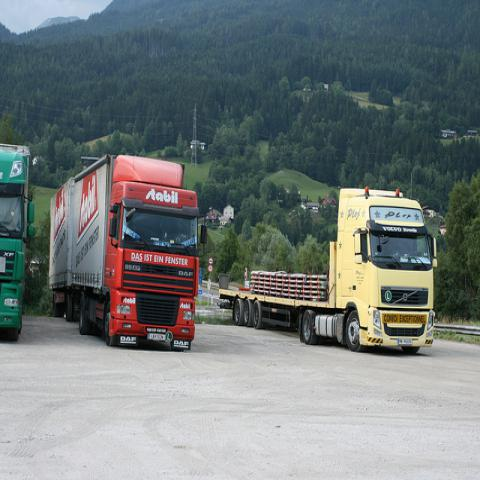truck: (220, 187, 439, 354), (47, 152, 198, 348), (0, 143, 44, 344)
